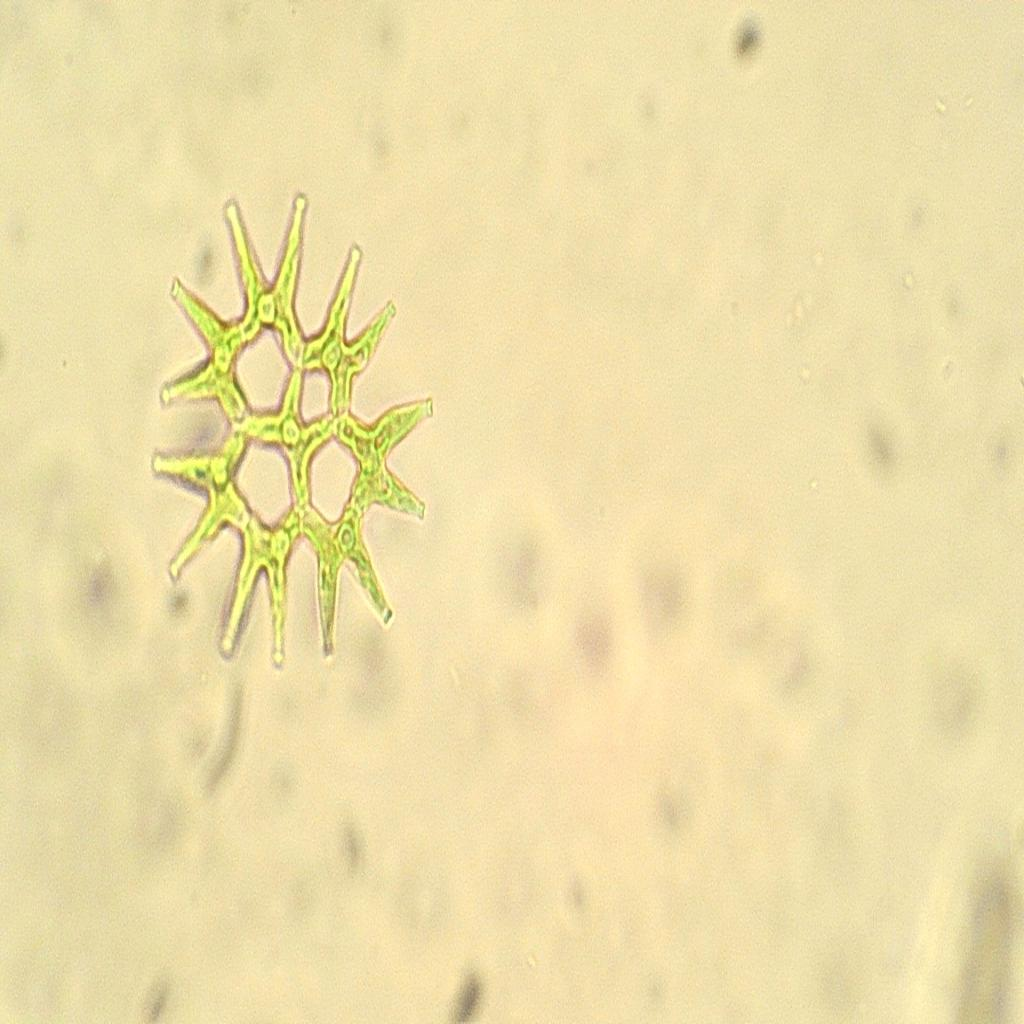Pediastrum_75T: (139, 178, 446, 699)
